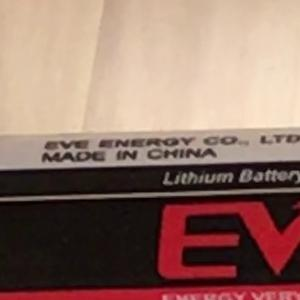keyword: (154, 164, 237, 194)
